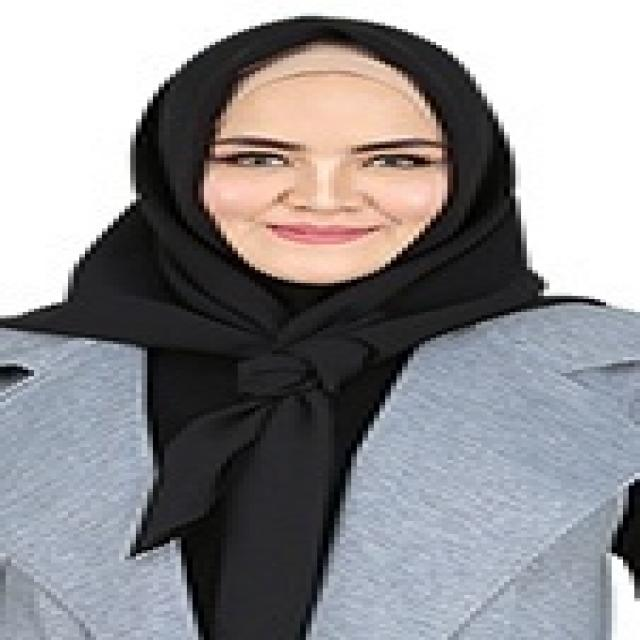head: (162, 19, 490, 298)
